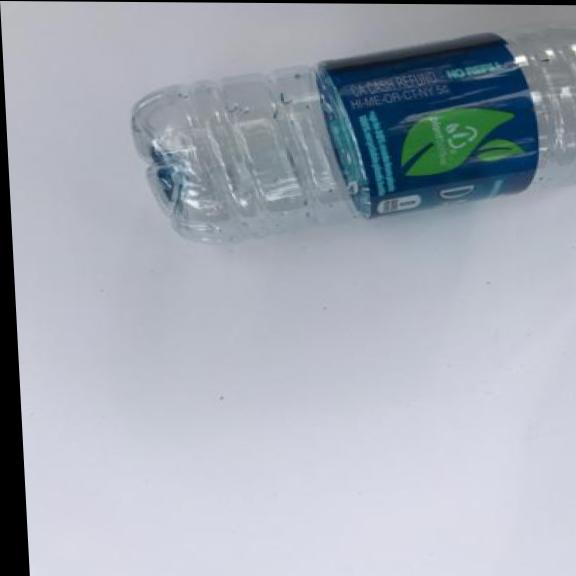Plastik: (116, 15, 576, 248)
